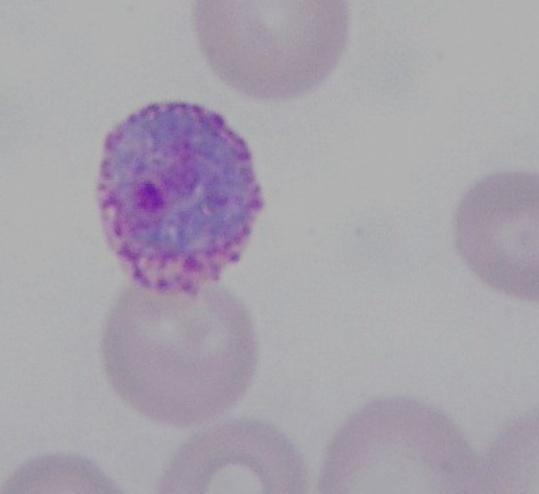Infected: (101, 100, 262, 294)
Uninfected: (104, 278, 256, 420), (194, 0, 350, 100), (322, 398, 483, 494), (455, 174, 539, 301)
